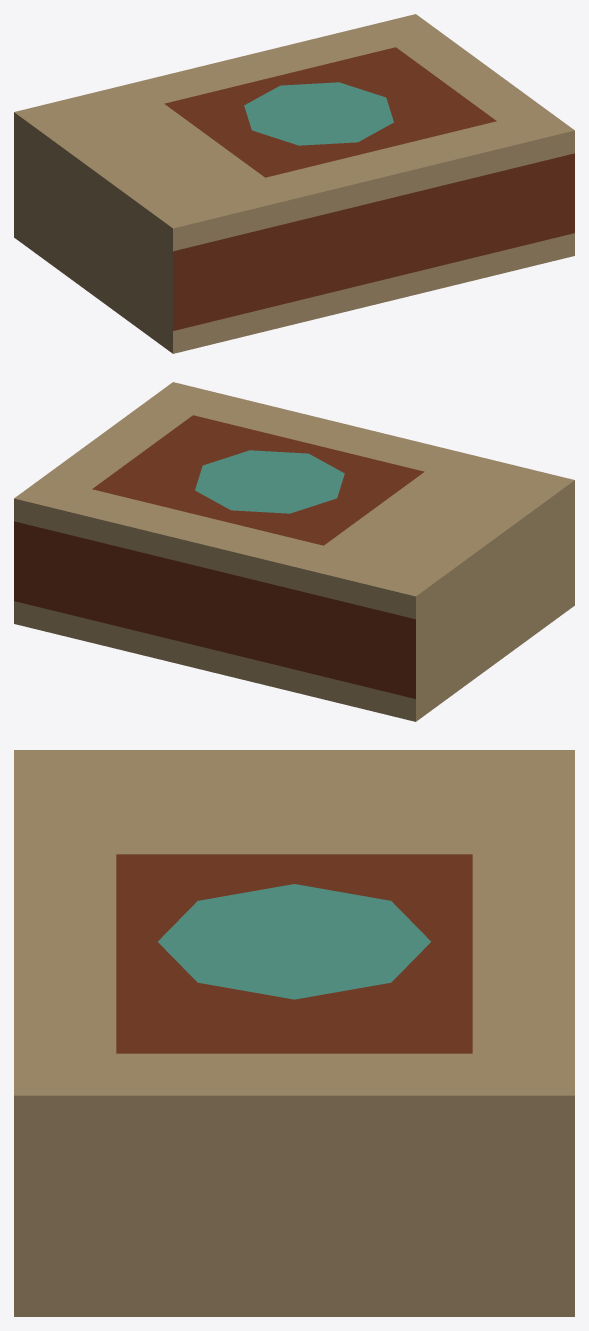
Rendered from match.fbx.
The picture shows the model from 3 angles, top to bottom: view 1: azimuth 30°, elevation 25°; view 2: azimuth 150°, elevation 25°; view 3: azimuth 270°, elevation 25°; orthographic projection. The views are drawn at different scales.
Visible parts, largest first — view 1: match; view 2: match; view 3: match.
Boxes of the visible parts, left/top/right/bottom form: match: left=14, top=14, right=574, bottom=353; match: left=14, top=382, right=574, bottom=721; match: left=14, top=750, right=574, bottom=1316.
Size of the model in its own units: 111 by 33.56 by 76.36.
Materials: 1 (1 with a texture image).
